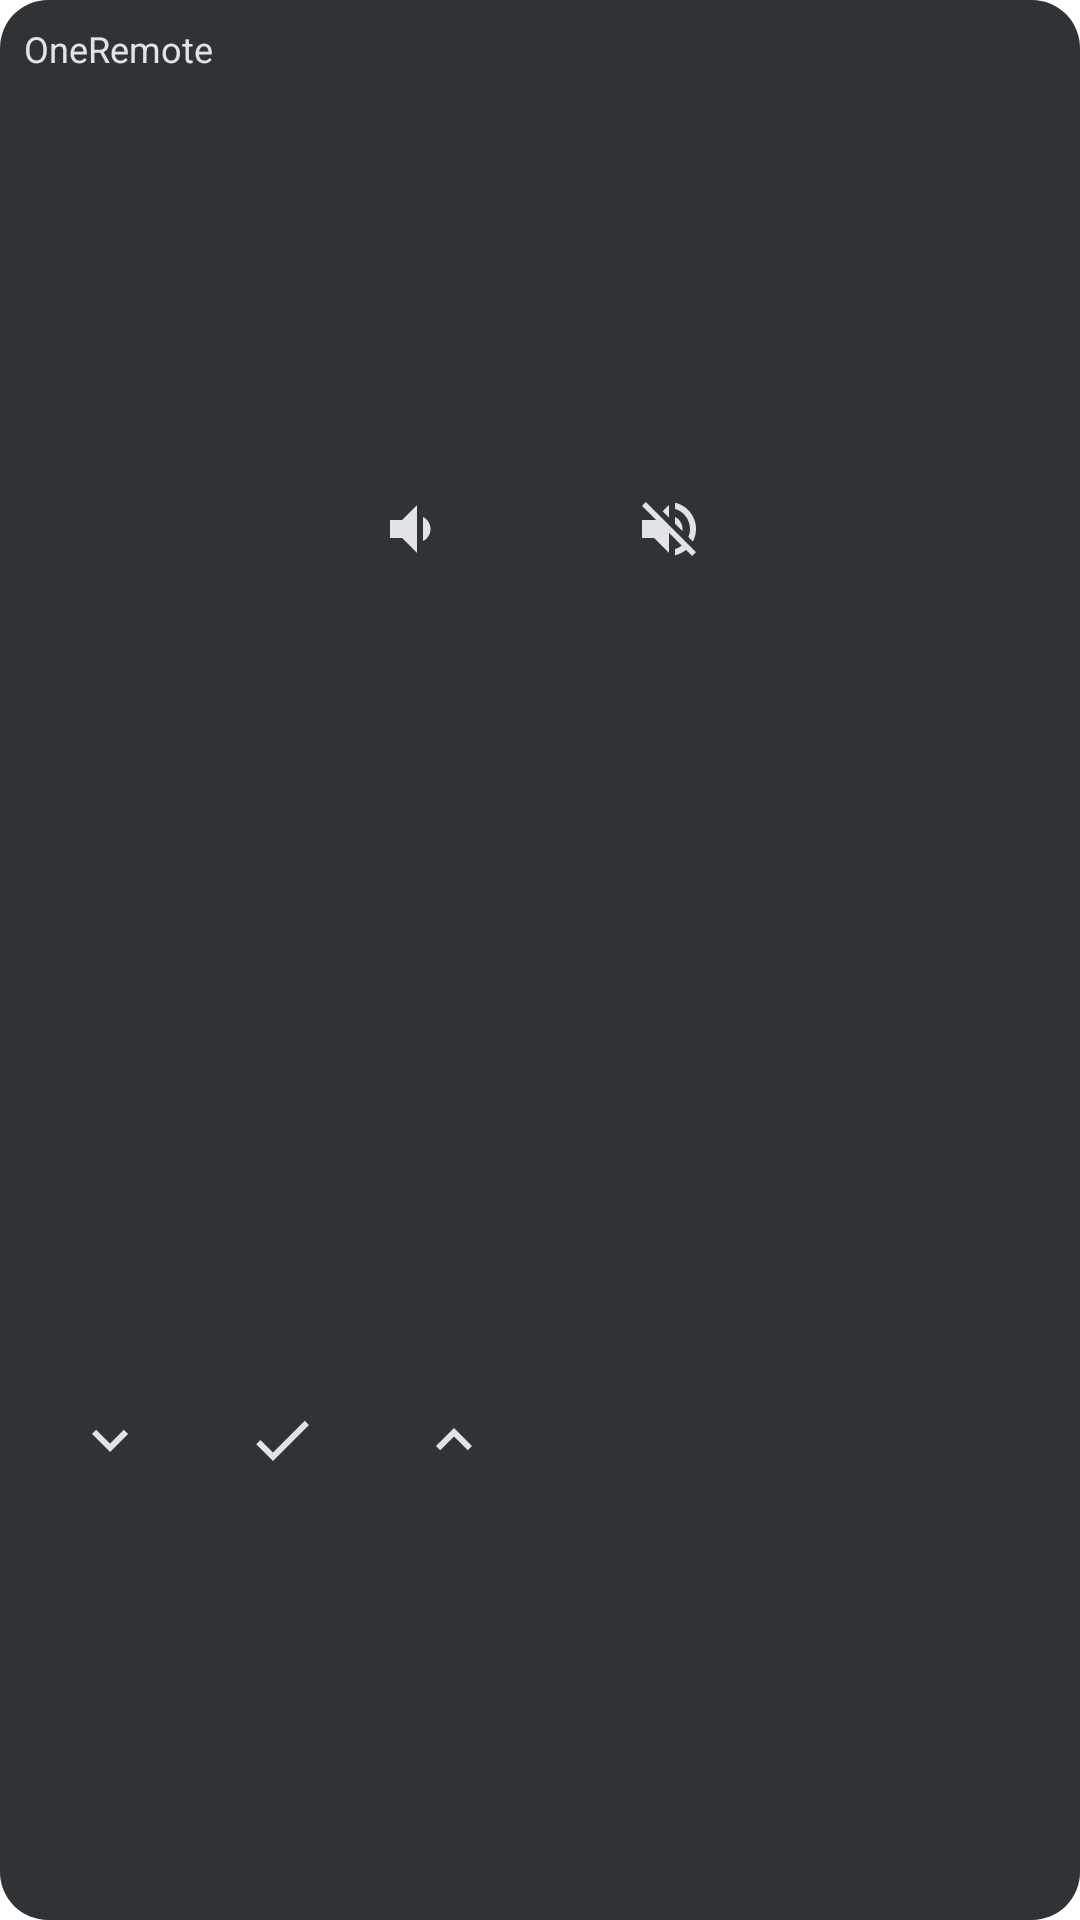

Screen size 1080px x 1920px. Icon name, then its center in pixels as (x,y):
Channel down: (110,1441)
Channel up: (454,1439)
Mute: (669,529)
OK: (282,1441)
Volume down: (410,529)
